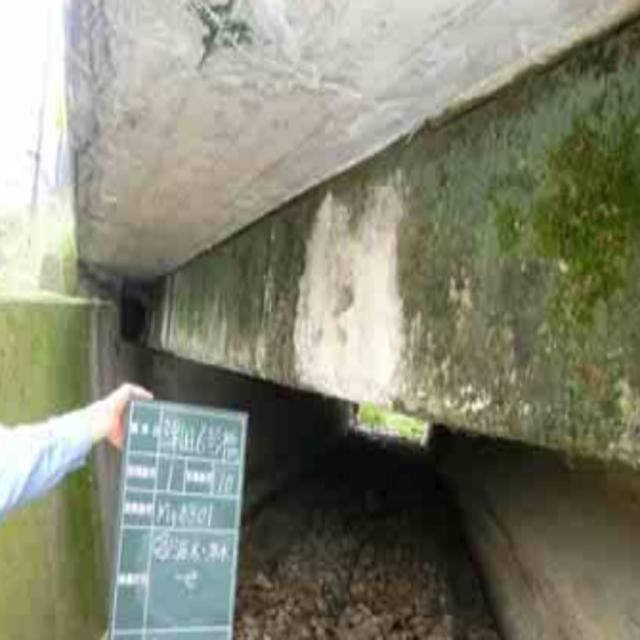leakage: (404, 19, 640, 440), (153, 216, 318, 384)
